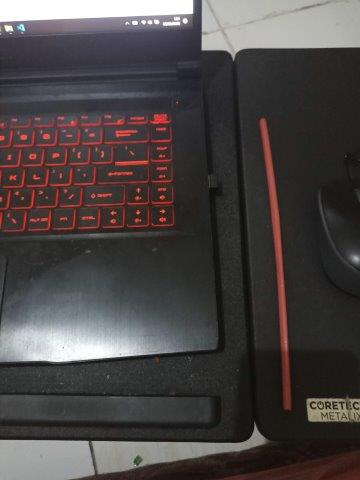sedotan: (259, 119, 291, 410)
